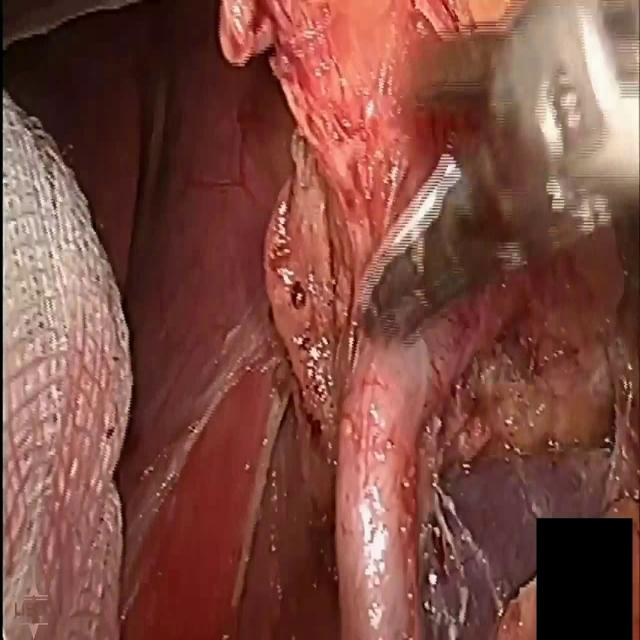surgical-area: (0, 0, 640, 639)
surgical-tool: (364, 0, 640, 337)
